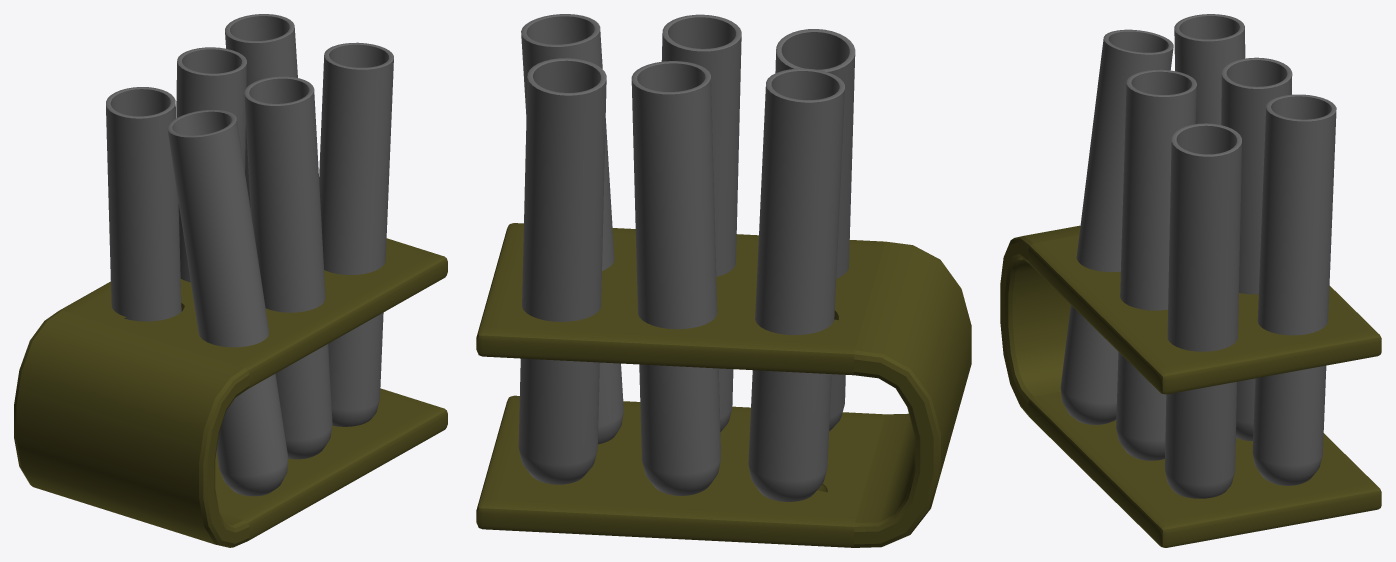
The model's file is labstuff.fbx.
3 views of the same model, side by side, from view 1: azimuth 30°, elevation 25°; view 2: azimuth 150°, elevation 25°; view 3: azimuth 270°, elevation 25° (orthographic). The views are drawn at different scales.
Visible parts, largest first — view 1: Brooke_Rodgers_checkpoint2_test_tube:test_tube_rack, Brooke_Rodgers_checkpoint2_test_tube:tube_2, Brooke_Rodgers_checkpoint2_test_tube:tube_1, Brooke_Rodgers_checkpoint2_test_tube:tube_6, Brooke_Rodgers_checkpoint2_test_tube:tube_3, Brooke_Rodgers_checkpoint2_test_tube:tube_4, Brooke_Rodgers_checkpoint2_test_tube:tube_5; view 2: Brooke_Rodgers_checkpoint2_test_tube:test_tube_rack, Brooke_Rodgers_checkpoint2_test_tube:tube_4, Brooke_Rodgers_checkpoint2_test_tube:tube_3, Brooke_Rodgers_checkpoint2_test_tube:tube_5, Brooke_Rodgers_checkpoint2_test_tube:tube_1, Brooke_Rodgers_checkpoint2_test_tube:tube_6, Brooke_Rodgers_checkpoint2_test_tube:tube_2; view 3: Brooke_Rodgers_checkpoint2_test_tube:test_tube_rack, Brooke_Rodgers_checkpoint2_test_tube:tube_5, Brooke_Rodgers_checkpoint2_test_tube:tube_6, Brooke_Rodgers_checkpoint2_test_tube:tube_1, Brooke_Rodgers_checkpoint2_test_tube:tube_2, Brooke_Rodgers_checkpoint2_test_tube:tube_4, Brooke_Rodgers_checkpoint2_test_tube:tube_3.
Part boxes in pixels (<box>): Brooke_Rodgers_checkpoint2_test_tube:test_tube_rack: <box>14,238,447,547</box>; Brooke_Rodgers_checkpoint2_test_tube:tube_2: <box>167,110,288,496</box>; Brooke_Rodgers_checkpoint2_test_tube:tube_1: <box>244,76,332,459</box>; Brooke_Rodgers_checkpoint2_test_tube:tube_6: <box>319,42,393,426</box>; Brooke_Rodgers_checkpoint2_test_tube:tube_3: <box>106,87,181,321</box>; Brooke_Rodgers_checkpoint2_test_tube:tube_4: <box>176,47,246,282</box>; Brooke_Rodgers_checkpoint2_test_tube:tube_5: <box>225,14,297,208</box>; Brooke_Rodgers_checkpoint2_test_tube:test_tube_rack: <box>476,223,971,547</box>; Brooke_Rodgers_checkpoint2_test_tube:tube_4: <box>631,61,720,495</box>; Brooke_Rodgers_checkpoint2_test_tube:tube_3: <box>748,68,844,501</box>; Brooke_Rodgers_checkpoint2_test_tube:tube_5: <box>518,58,606,484</box>; Brooke_Rodgers_checkpoint2_test_tube:tube_1: <box>661,14,741,431</box>; Brooke_Rodgers_checkpoint2_test_tube:tube_6: <box>521,14,623,444</box>; Brooke_Rodgers_checkpoint2_test_tube:tube_2: <box>775,29,855,431</box>; Brooke_Rodgers_checkpoint2_test_tube:test_tube_rack: <box>1000,225,1381,547</box>; Brooke_Rodgers_checkpoint2_test_tube:tube_5: <box>1252,94,1336,485</box>; Brooke_Rodgers_checkpoint2_test_tube:tube_6: <box>1164,123,1241,498</box>; Brooke_Rodgers_checkpoint2_test_tube:tube_1: <box>1116,69,1196,460</box>; Brooke_Rodgers_checkpoint2_test_tube:tube_2: <box>1060,29,1173,424</box>; Brooke_Rodgers_checkpoint2_test_tube:tube_4: <box>1221,57,1292,440</box>; Brooke_Rodgers_checkpoint2_test_tube:tube_3: <box>1174,14,1245,124</box>.
Bounding box in the file's own units: 9.77 × 8.81 × 7.89.
